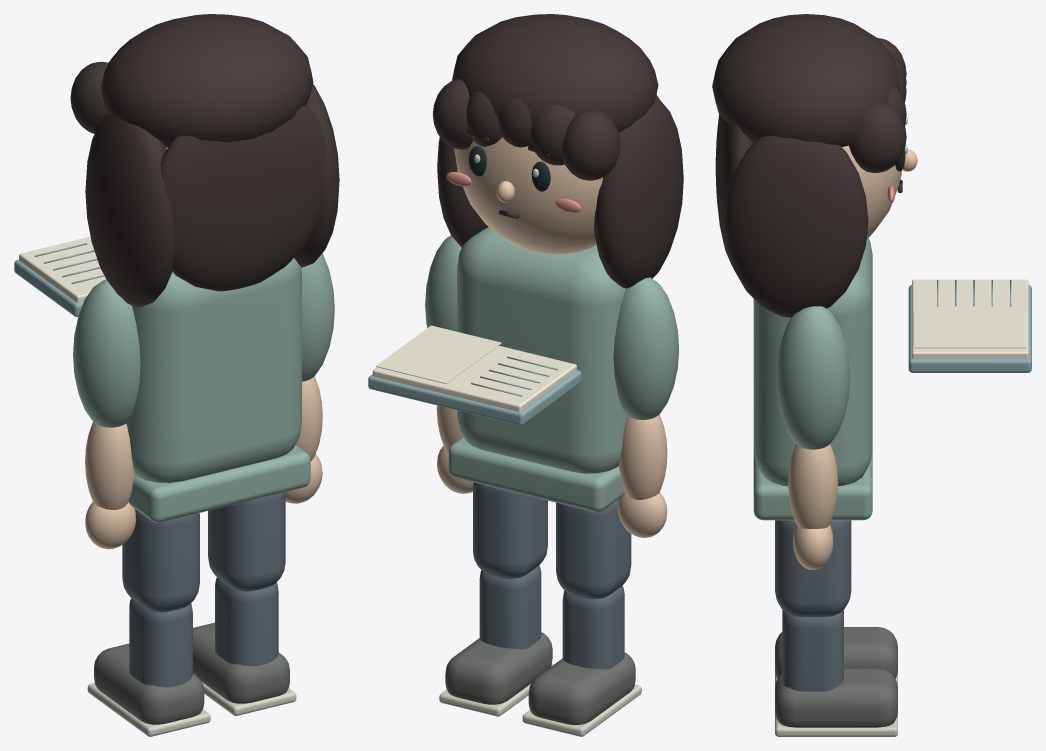
The model's file is student_reader.glb.
The picture shows the model from 3 angles, left to right: view 1: azimuth 30°, elevation 25°; view 2: azimuth 150°, elevation 25°; view 3: azimuth 270°, elevation 25°; orthographic projection. The views are drawn at different scales.
Visible parts, largest first — view 1: StudentReaderBob, StudentReaderHem, StudentReaderSleeve, StudentReaderThigh, StudentReaderThigh.001, StudentReaderForearm, StudentReaderShin.001, StudentReaderShin, StudentReaderShoe, StudentReaderShoe.001, StudentReaderSleeve.001, StudentReaderPages (+4 smaller); view 2: StudentReaderBob, StudentReaderHem, StudentReaderEar, StudentReaderSleeve, StudentReaderThigh, StudentReaderThigh.001, StudentReaderPages, StudentReaderShoe, StudentReaderForearm, StudentReaderShoe.001, StudentReaderShin.001, StudentReaderShin (+8 smaller); view 3: StudentReaderBob, StudentReaderHem, StudentReaderSleeve.001, StudentReaderShoe.001, StudentReaderThigh.001, StudentReaderPages, StudentReaderForearm.001, StudentReaderShin.001, StudentReaderTurnPage, StudentReaderCover, StudentReaderShoe, StudentReaderEar (+1 smaller).
Part boxes in pixels (x1,y1,x2,y2): StudentReaderBob: (70, 14, 339, 306); StudentReaderHem: (126, 258, 310, 522); StudentReaderSleeve: (73, 279, 140, 427); StudentReaderThigh: (122, 509, 199, 612); StudentReaderThigh.001: (208, 492, 285, 591); StudentReaderForearm: (85, 422, 136, 549); StudentReaderShin.001: (215, 577, 278, 666); StudentReaderShin: (129, 598, 192, 687); StudentReaderShoe: (94, 643, 204, 724); StudentReaderShoe.001: (193, 622, 289, 703); StudentReaderSleeve.001: (301, 253, 334, 381); StudentReaderPages: (19, 236, 105, 302); StudentReaderBob: (432, 14, 683, 288); StudentReaderHem: (448, 227, 627, 512); StudentReaderEar: (454, 137, 602, 253); StudentReaderSleeve: (613, 277, 678, 419); StudentReaderThigh: (556, 499, 631, 599); StudentReaderThigh.001: (473, 482, 547, 579); StudentReaderPages: (372, 345, 576, 411); StudentReaderShoe: (528, 653, 635, 724); StudentReaderForearm: (617, 414, 667, 537); StudentReaderShoe.001: (445, 632, 552, 704); StudentReaderShin.001: (479, 565, 541, 649); StudentReaderShin: (562, 585, 624, 669); StudentReaderBob: (712, 14, 906, 317); StudentReaderHem: (753, 238, 872, 520); StudentReaderSleeve.001: (776, 306, 849, 449); StudentReaderShoe.001: (775, 668, 897, 727); StudentReaderThigh.001: (775, 520, 851, 617); StudentReaderPages: (912, 279, 1028, 358); StudentReaderForearm.001: (788, 444, 838, 569); StudentReaderShin.001: (782, 610, 843, 691); StudentReaderTurnPage: (913, 312, 1026, 348); StudentReaderCover: (908, 280, 1031, 372); StudentReaderShoe: (775, 627, 897, 678); StudentReaderEar: (842, 145, 917, 238).
Size of the model in its own units: 0.676 by 1.75 by 0.753.
